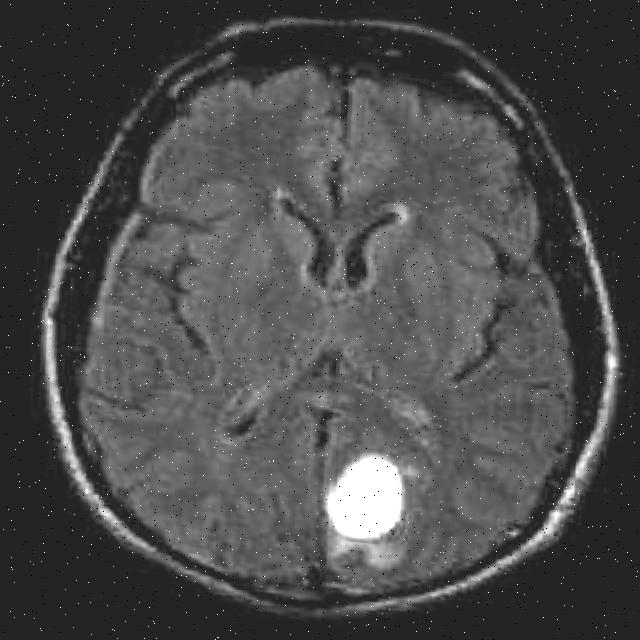Meningioma: (315, 445, 414, 547)
